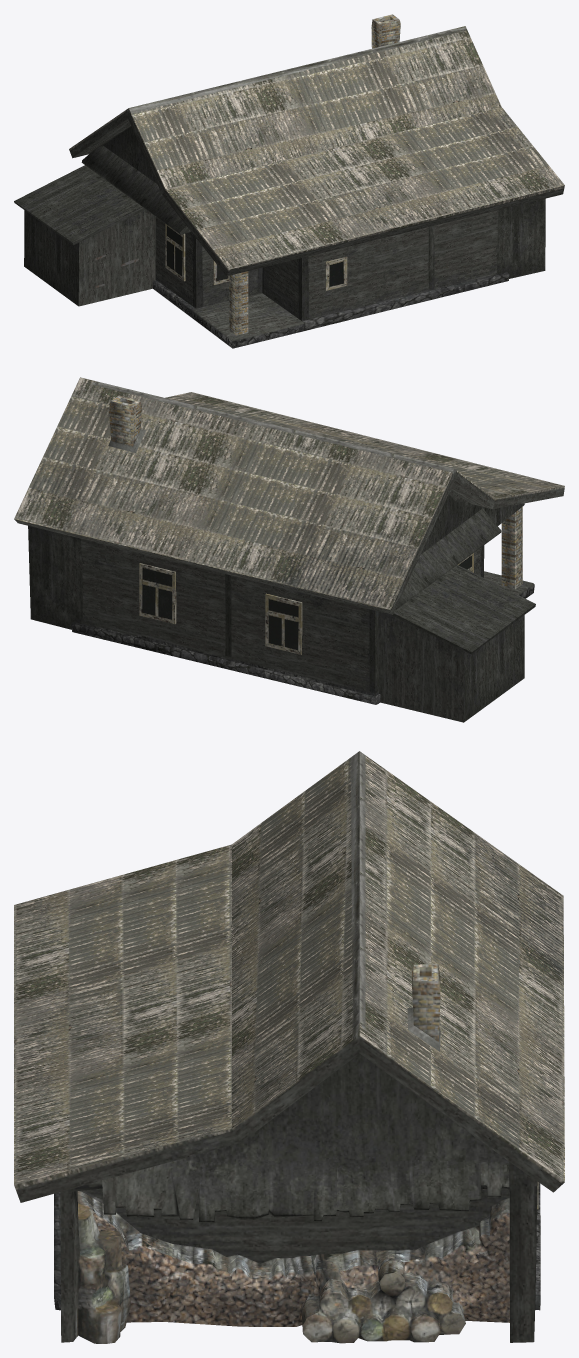
The model's file is cabin.glb.
3 views of the same model, one above another, from view 1: azimuth 30°, elevation 25°; view 2: azimuth 150°, elevation 25°; view 3: azimuth 270°, elevation 25° (orthographic). The views are drawn at different scales.
Visible parts, largest first — view 1: Dom_03_low__Dom_03_low__0; view 2: Dom_03_low__Dom_03_low__0; view 3: Dom_03_low__Dom_03_low__0.
Boxes of the visible parts, x1,y1,x2,y2 form: Dom_03_low__Dom_03_low__0: (14, 14, 564, 348); Dom_03_low__Dom_03_low__0: (14, 377, 564, 722); Dom_03_low__Dom_03_low__0: (14, 751, 564, 1343).
Size of the model in its own units: 13.55 by 5.88 by 8.91.
Materials: 1 (1 with a texture image).
